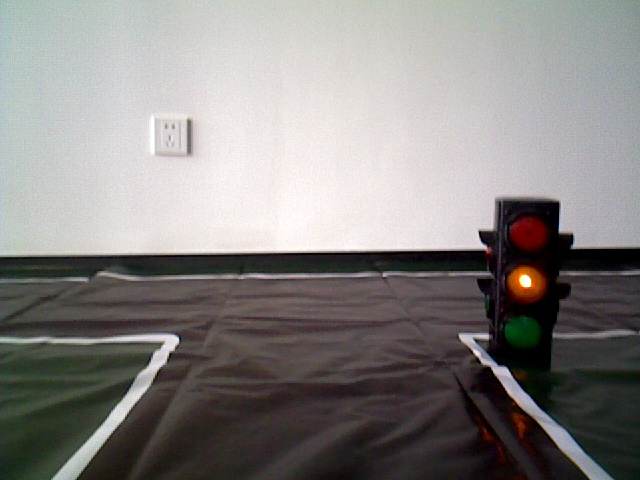yellow: (497, 199, 556, 366)
